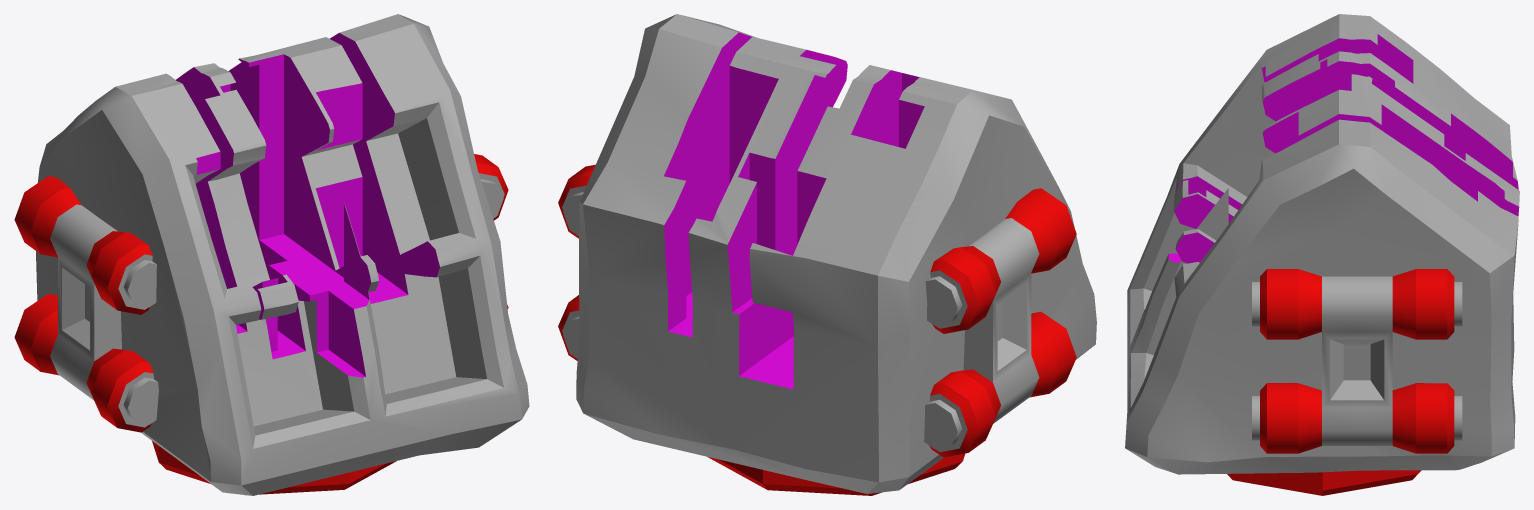
File: Enemy_TurretQuad_Body_Glitch.fbx
3 views of the same model, side by side, from view 1: azimuth 30°, elevation 25°; view 2: azimuth 150°, elevation 25°; view 3: azimuth 270°, elevation 25° (orthographic). The views are drawn at different scales.
Visible parts, largest first — view 1: Enemy_Turret_Quad_body4; view 2: Enemy_Turret_Quad_body4; view 3: Enemy_Turret_Quad_body4.
Part boxes in pixels (x1,y1,x2,y2): Enemy_Turret_Quad_body4: (14, 14, 529, 495); Enemy_Turret_Quad_body4: (558, 14, 1096, 495); Enemy_Turret_Quad_body4: (1125, 14, 1519, 495).
Size of the model in its own units: 4.12 by 3.7 by 3.62.
